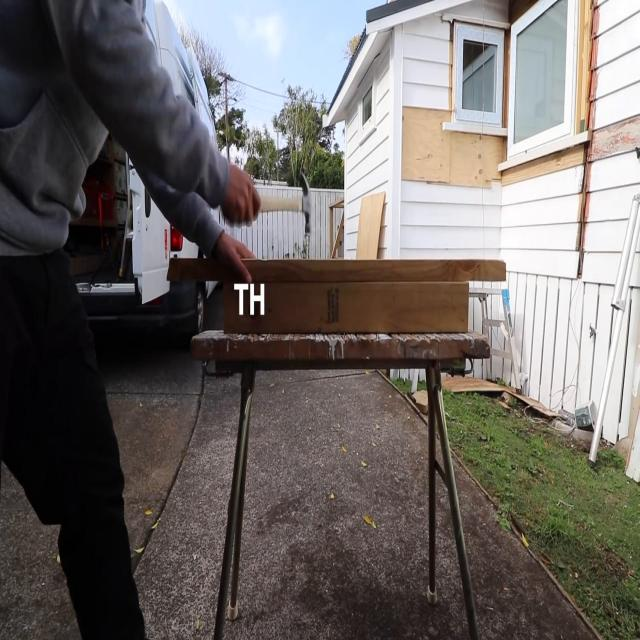hammer: (261, 174, 314, 235)
